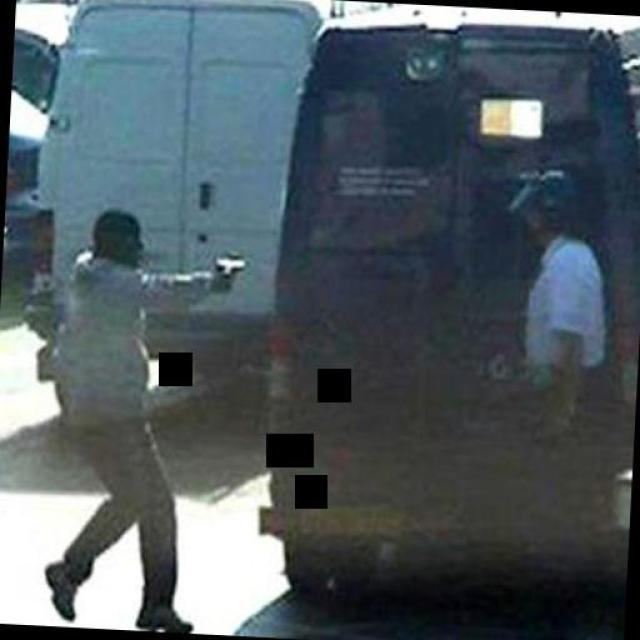gun: (206, 250, 252, 301)
